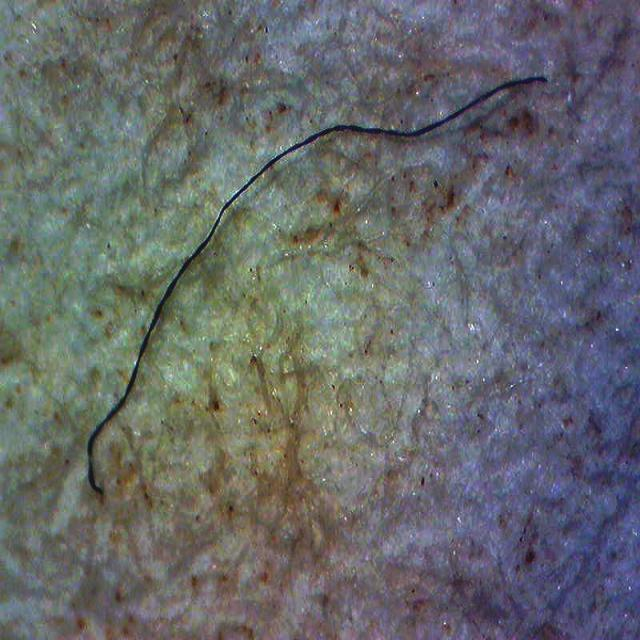microplastic: (86, 75, 553, 492)
